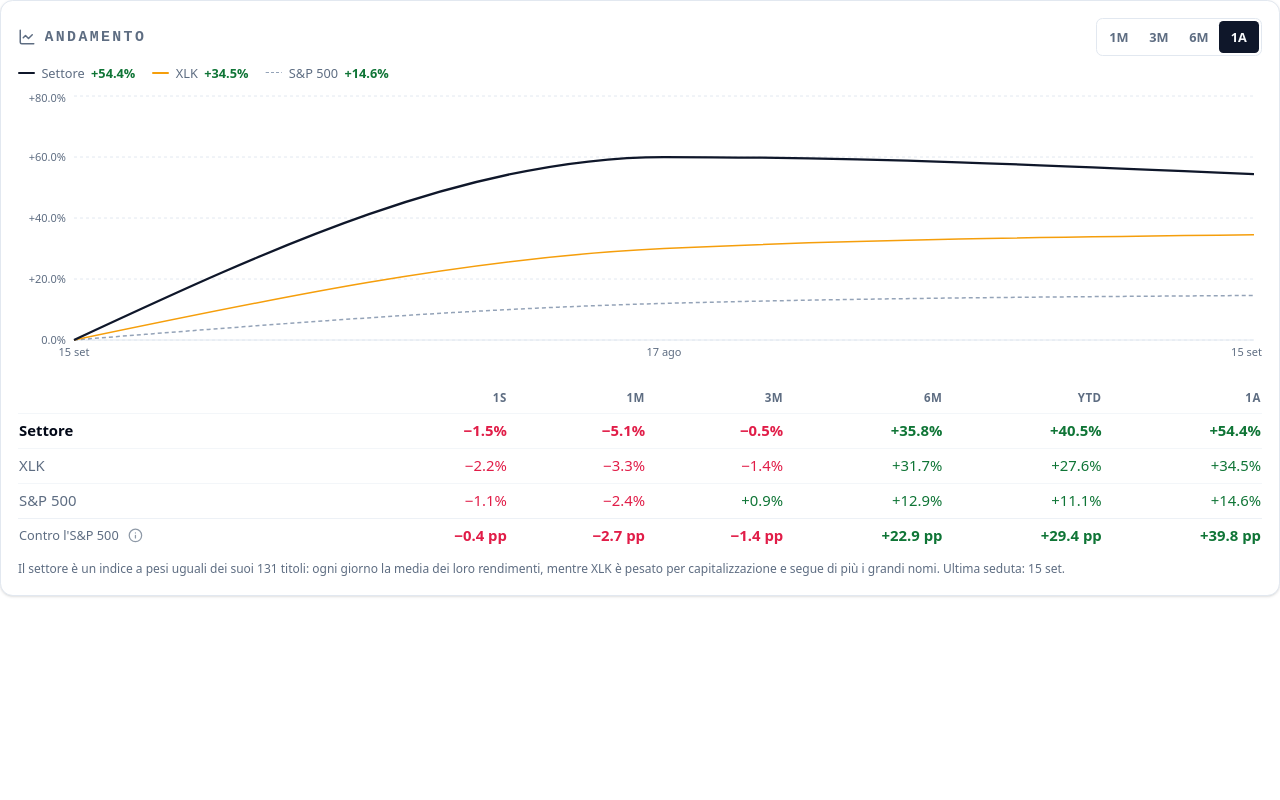
Test case: le schede dell'andamento di un settore › la legenda porta quanto ha fatto ciascuno nell'intervallo scelto
Expected: the text "+54.4%" is shown, [91,65,135,82]
Click the button "1M". click: [1119, 37]
box: [1099,21,1139,53]
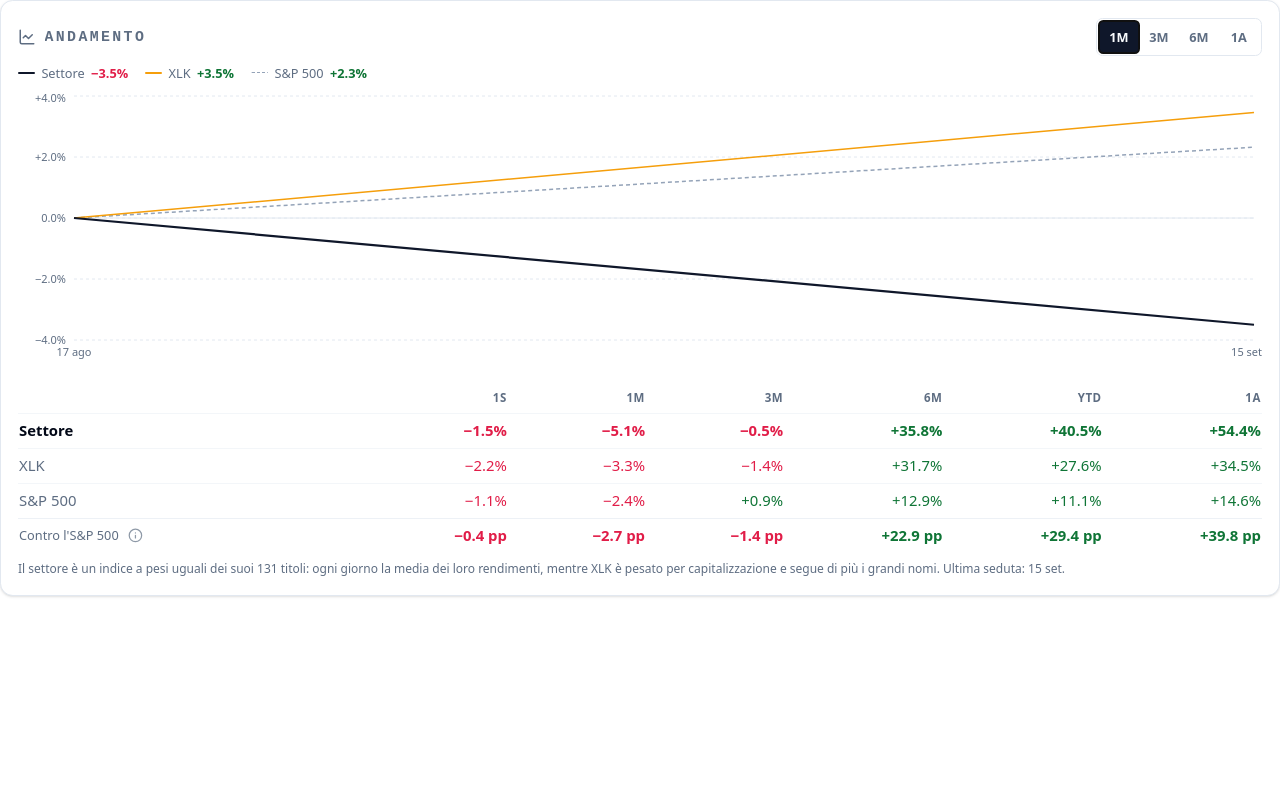
Expected: the text "−3.5%" is shown, [91,65,128,82]
